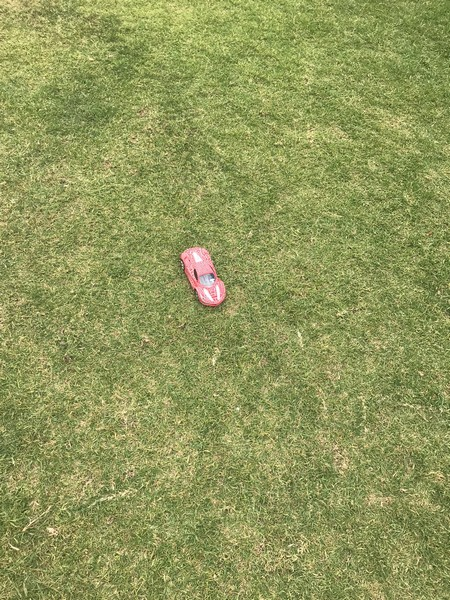RC: (177, 245, 226, 308)
